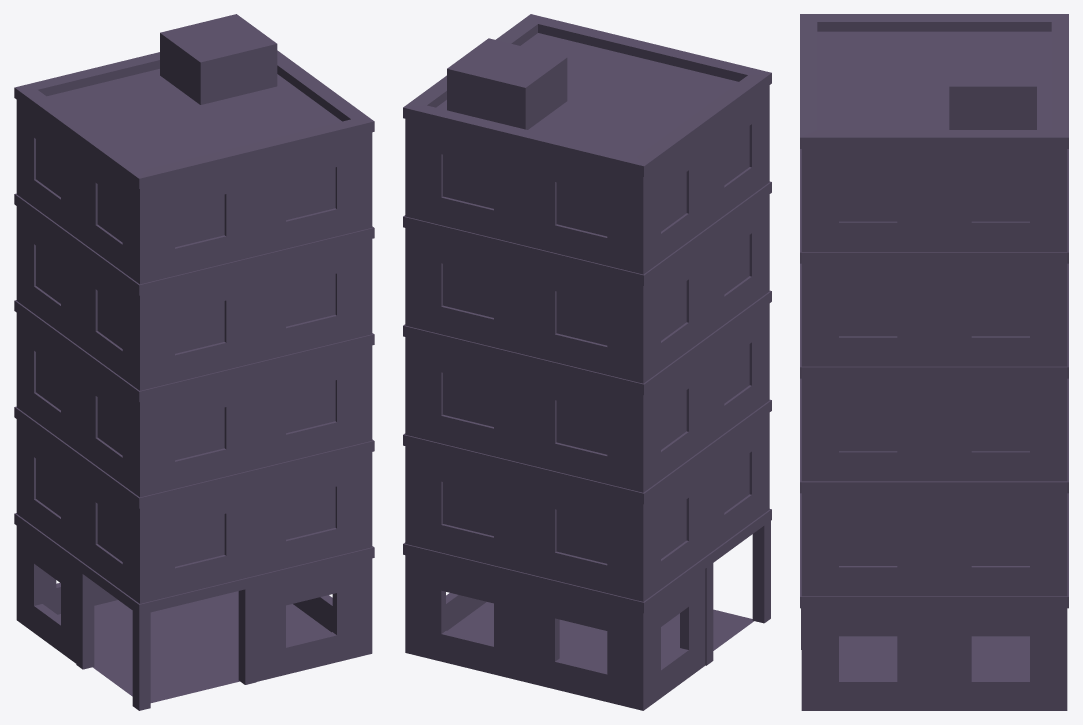
Rendered from building_1 1.fbx.
The picture shows the model from 3 angles, left to right: view 1: azimuth 30°, elevation 25°; view 2: azimuth 150°, elevation 25°; view 3: azimuth 270°, elevation 25°; orthographic projection. The views are drawn at different scales.
Visible parts, largest first — view 1: building1; view 2: building1; view 3: building1.
Boxes of the visible parts, left/top/right/bottom form: building1: left=14, top=14, right=374, bottom=710; building1: left=403, top=14, right=771, bottom=710; building1: left=800, top=14, right=1068, bottom=710.
Size of the model in its own units: 6.94 by 15.97 by 6.37.
